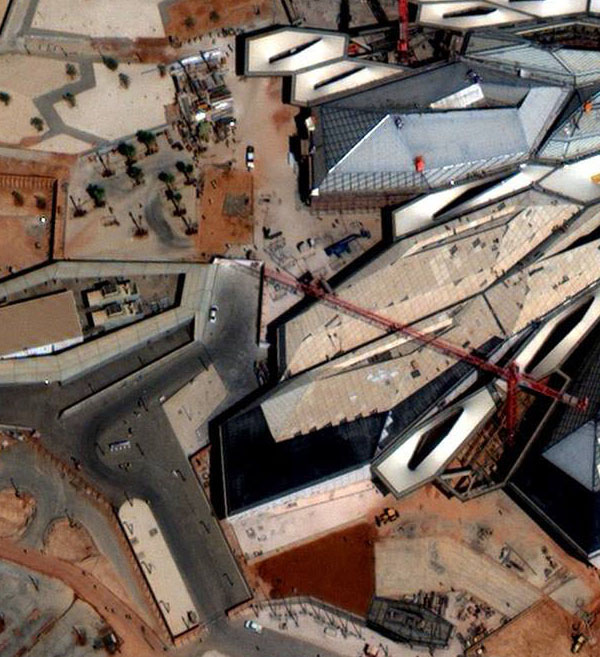crane: (265, 267, 591, 443)
